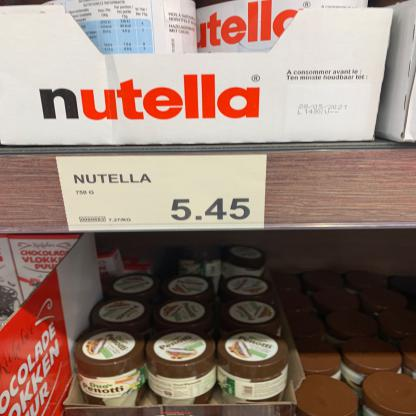prtg: (57, 156, 268, 232)
